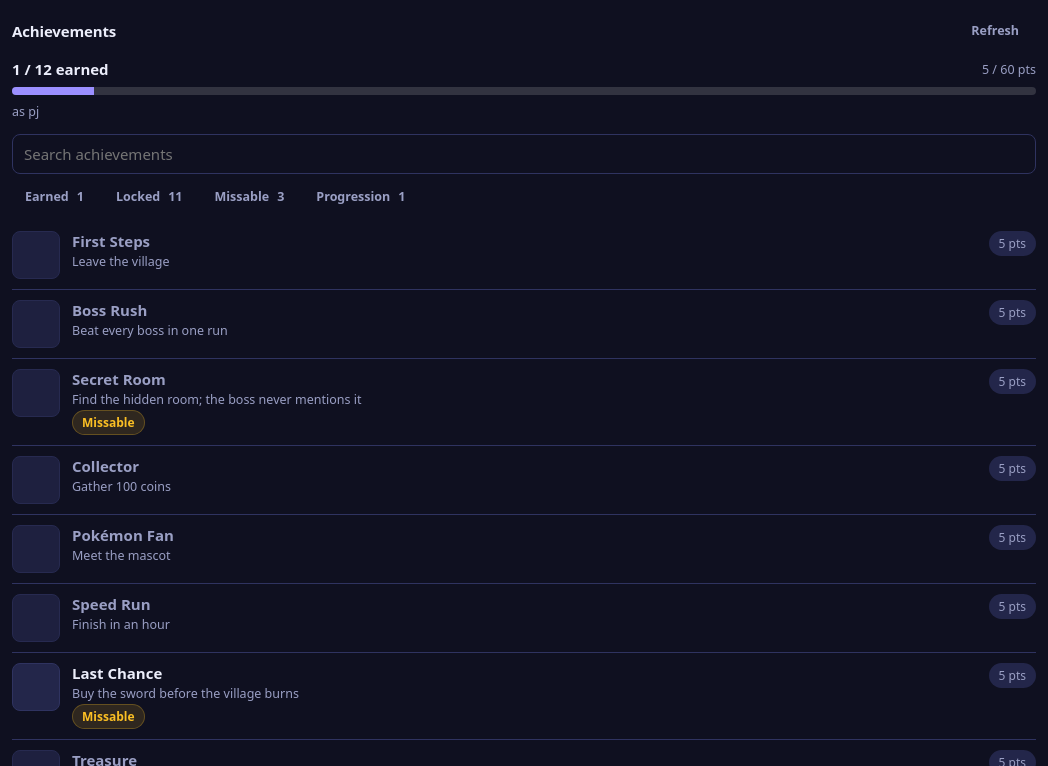
Test: searching and filtering achievements in the panel › finds the missable ones you haven't earned: the point of the filter
Click the button with test id "ach-filter-missable" at (249, 196), box x1=202 y1=182 x2=297 y2=211
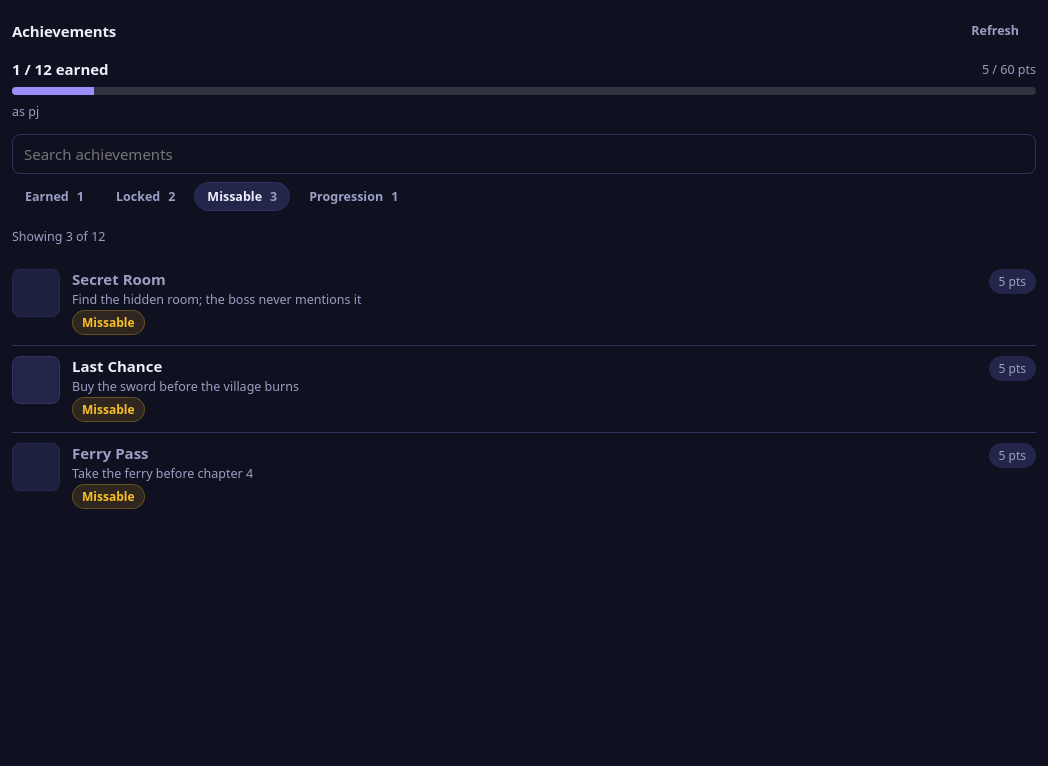
Click the button with test id "ach-filter-locked" at (146, 196), box x1=103 y1=182 x2=188 y2=211
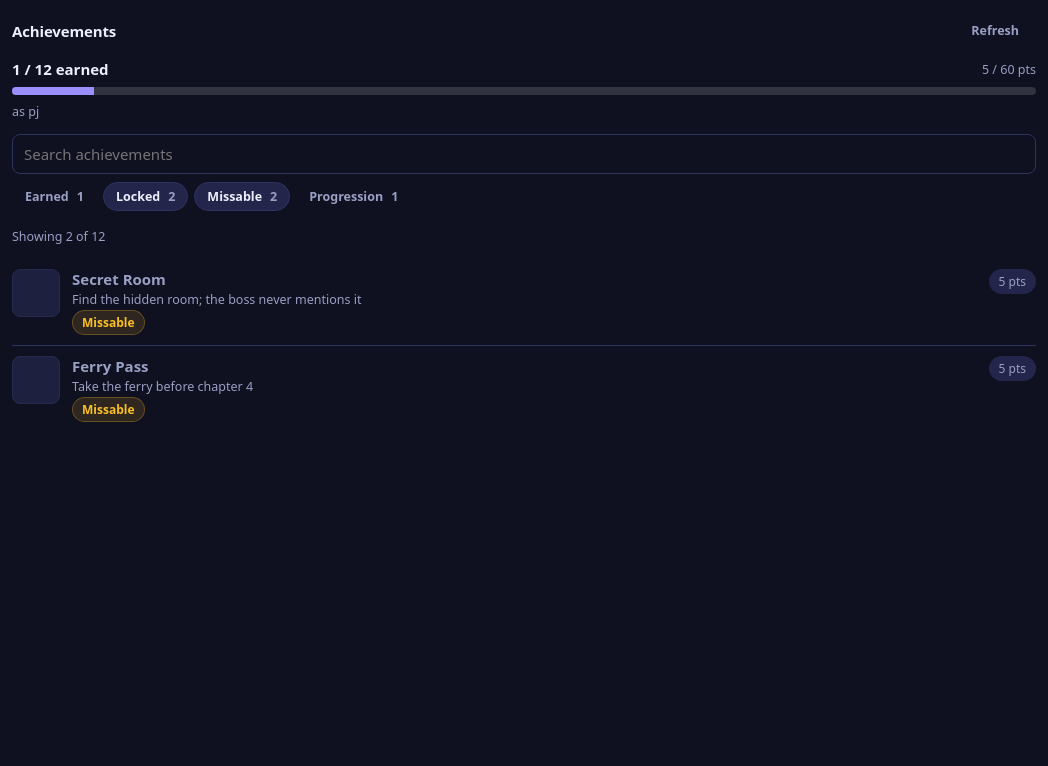
Check: the text "Showing 2 of 12" is shown, box x1=12 y1=228 x2=106 y2=244
